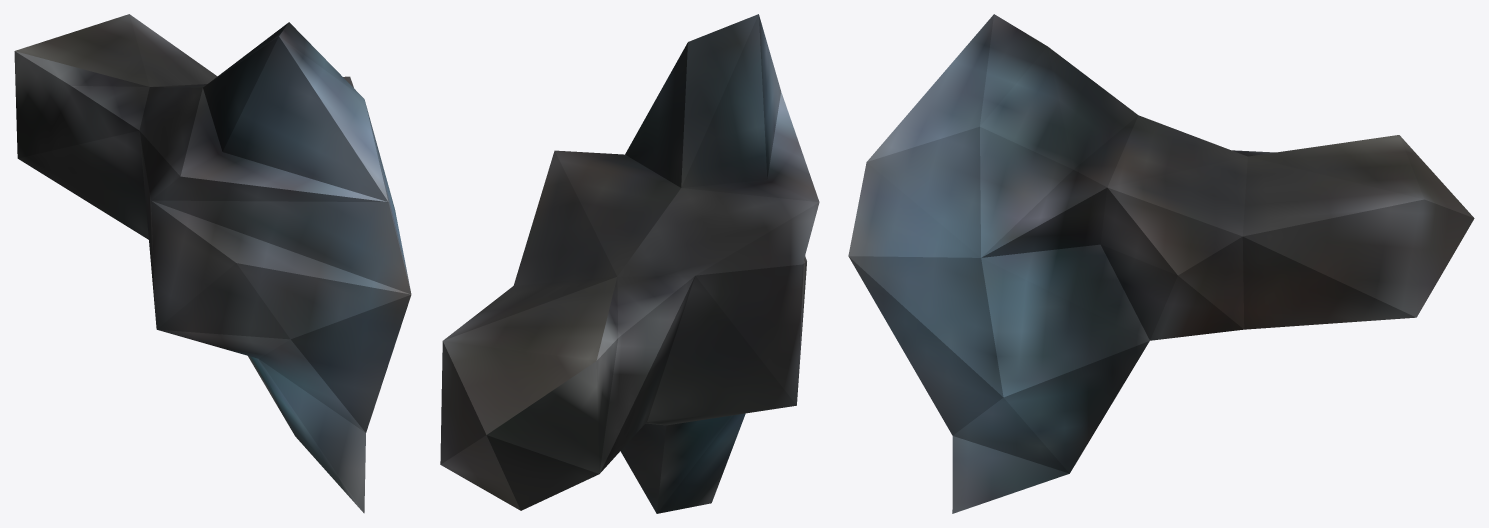
File: fish-test.fbx
3 views of the same model, side by side, from view 1: azimuth 30°, elevation 25°; view 2: azimuth 150°, elevation 25°; view 3: azimuth 270°, elevation 25° (orthographic). The views are drawn at different scales.
Parts seen in each view (by area): view 1: Model; view 2: Model; view 3: Model.
Boxes of the visible parts, x1,y1,x2,y2 form: Model: (14, 14, 411, 513); Model: (440, 14, 819, 513); Model: (848, 14, 1474, 513).
Size of the model in its own units: 1.26 by 2.7 by 3.27.
